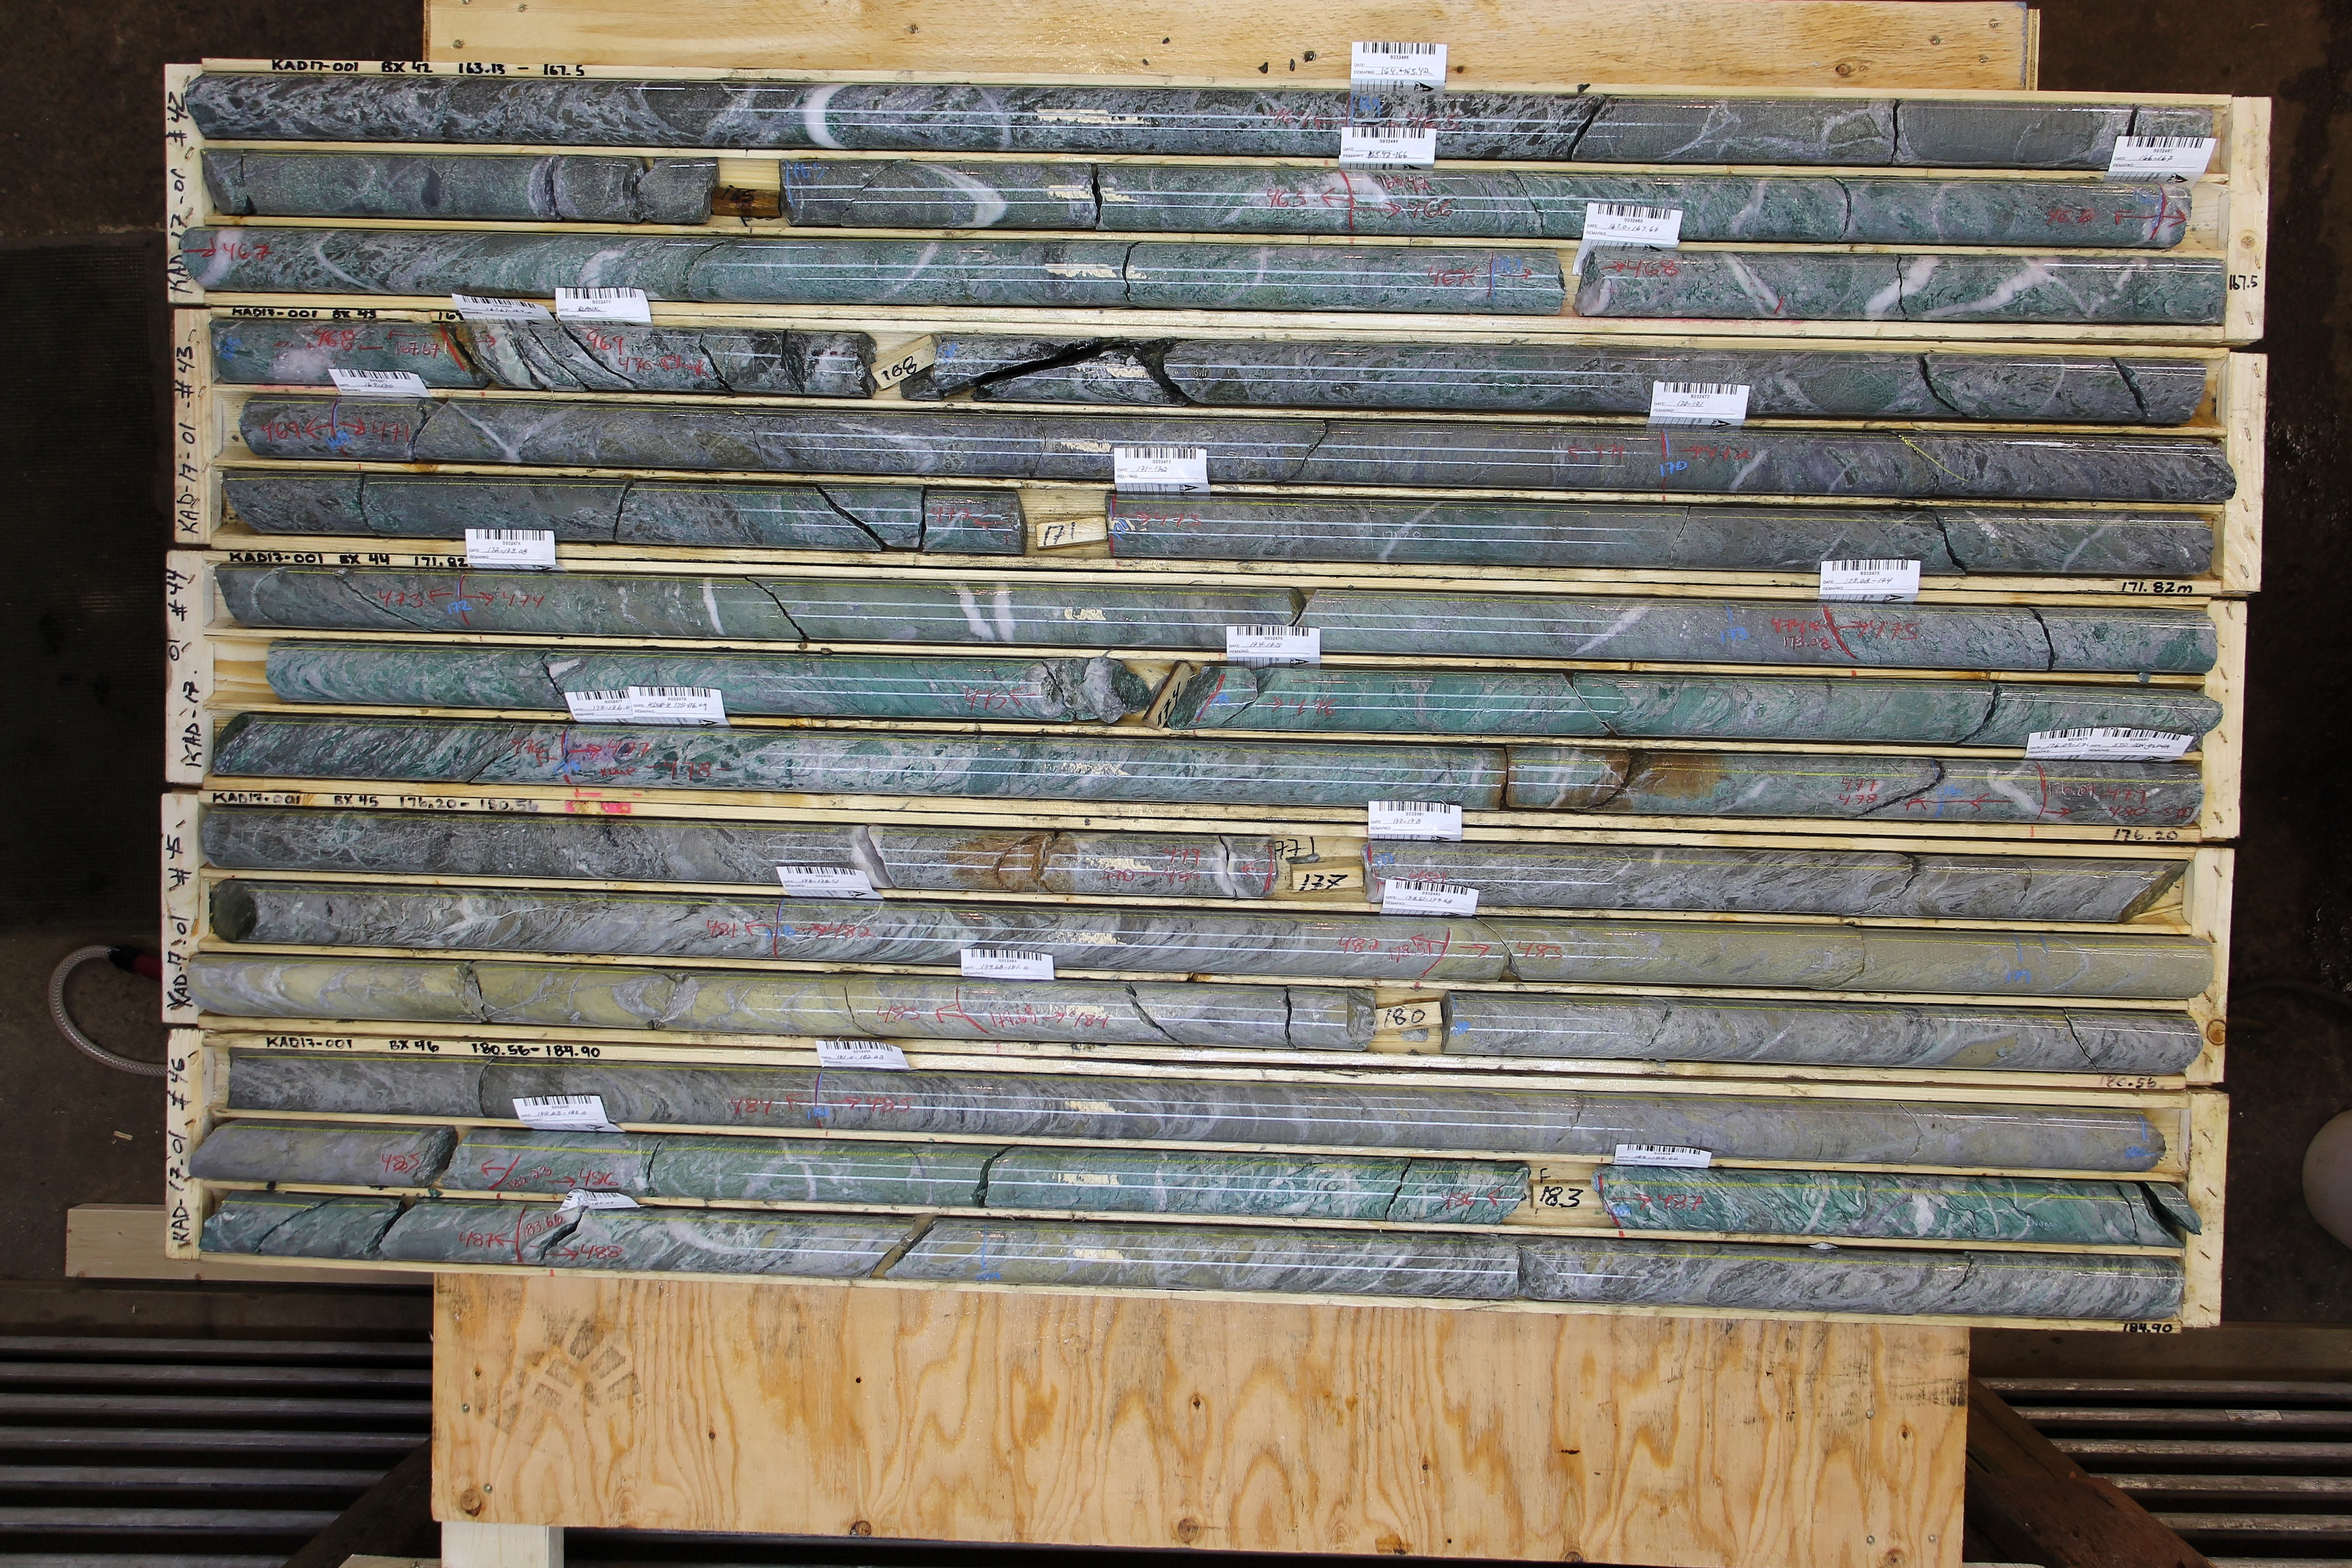rock-KAD17_001-163.13-164: (199, 76, 1348, 152)
rock-KAD17_001-164-164x: (1350, 94, 2223, 163)
rock-KAD17_001-164x-165: (206, 152, 713, 220)
rock-KAD17_001-165-166: (793, 167, 2162, 244)
rock-KAD17_001-166-167: (203, 231, 1496, 311)
rock-KAD17_001-167-167x: (1500, 256, 2224, 324)
rock-KAD17_001-167x-168: (220, 316, 862, 394)
rock-KAD17_001-168-168x: (919, 340, 2212, 423)
rock-KAD17_001-168x-169: (245, 396, 333, 460)
rock-KAD17_001-169-170: (333, 399, 1667, 493)
rock-KAD17_001-170-170x: (1669, 434, 2221, 500)
rock-KAD17_001-170x-171: (225, 476, 1022, 551)
rock-KAD17_001-171-171x: (1104, 500, 2206, 572)
rock-KAD17_001-171x-172: (218, 568, 461, 627)
rock-KAD17_001-172-173: (461, 578, 1730, 659)
rock-KAD17_001-173-173x: (1735, 606, 2206, 669)
rock-KAD17_001-173x-174: (266, 646, 1140, 720)
rock-KAD17_001-174-174x: (1210, 666, 2197, 747)
rock-KAD17_001-174x-175: (226, 713, 568, 784)
rock-KAD17_001-175-176: (570, 727, 1938, 817)
rock-KAD17_001-176-176x: (1944, 760, 2198, 823)
rock-KAD17_001-176x-177: (214, 808, 1273, 896)
rock-KAD17_001-177-177x: (1360, 843, 2185, 918)
rock-KAD17_001-177x-178: (229, 885, 776, 960)
rock-KAD17_001-178-179: (781, 900, 2017, 995)
rock-KAD17_001-179-179x: (2019, 936, 2195, 996)
rock-KAD17_001-179x-180: (195, 955, 1364, 1050)
rock-KAD17_001-180-180x: (1448, 994, 2194, 1077)
rock-KAD17_001-180x-181: (229, 1051, 821, 1124)
rock-KAD17_001-181-182: (821, 1072, 2149, 1165)
rock-KAD17_001-182-183: (215, 1124, 1516, 1222)
rock-KAD17_001-183-183x: (1606, 1166, 2187, 1245)
rock-KAD17_001-183x-184: (205, 1194, 984, 1279)
rock-KAD17_001-184-184.90: (985, 1222, 2182, 1318)
